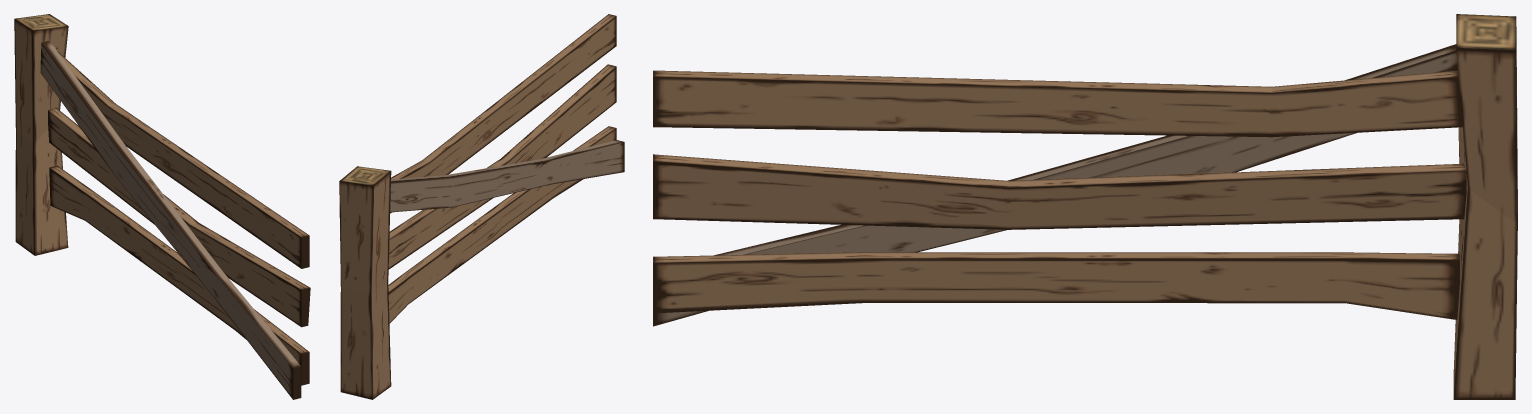
File: płot1.fbx
The picture shows the model from 3 angles, left to right: view 1: azimuth 30°, elevation 25°; view 2: azimuth 150°, elevation 25°; view 3: azimuth 270°, elevation 25°; orthographic projection. The views are drawn at different scales.
Parts seen in each view (by area): view 1: płot1; view 2: płot1; view 3: płot1.
Boxes of the visible parts, box(x1,y1,x2,y2) form: płot1: box(14, 14, 310, 399); płot1: box(339, 14, 624, 399); płot1: box(653, 14, 1517, 399).
Size of the model in its own units: 21.6 by 131 by 285.
1 material, 1 textured.
